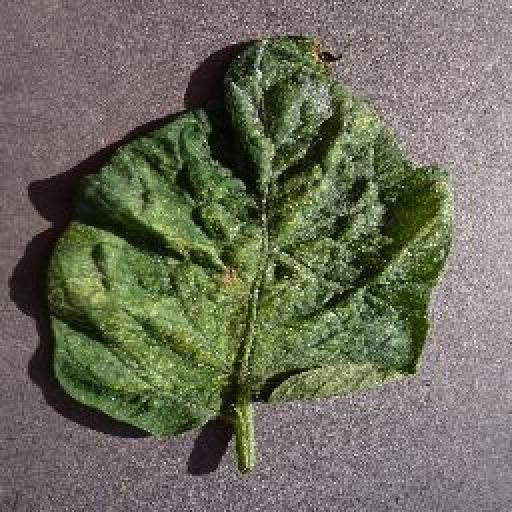disease_tomato: (48, 34, 452, 438)
